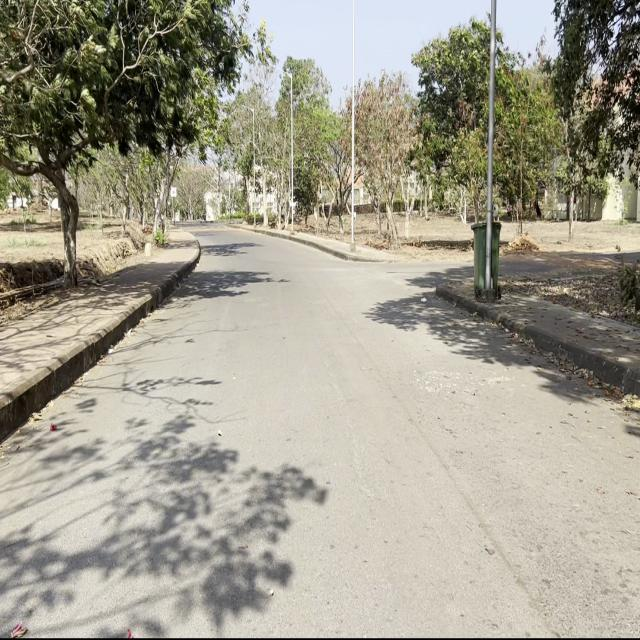Road: (1, 222, 636, 633)
